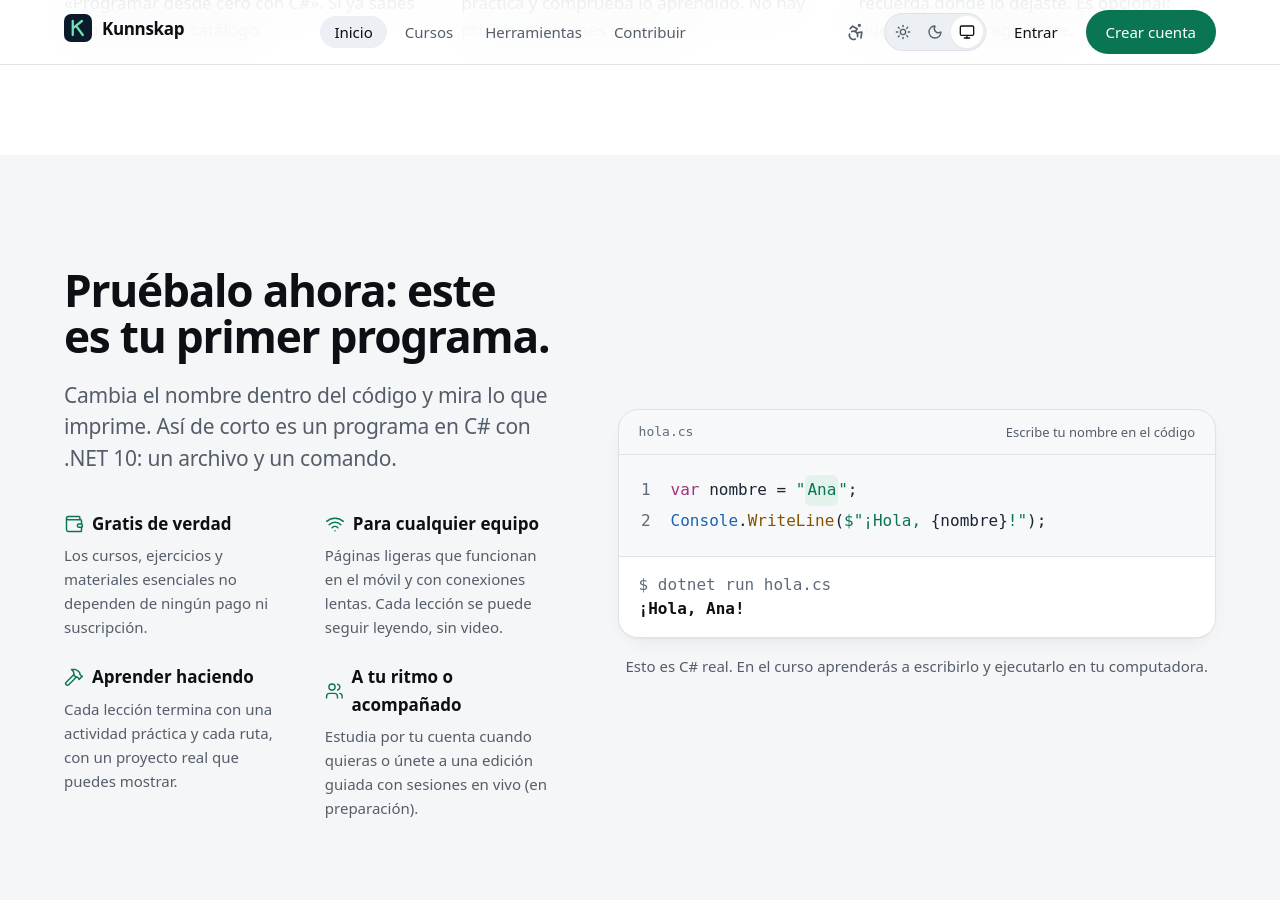
Test: editor de la portada › muestra al instante lo que imprimiría el programa con el nombre escrito
(page scrolled)
Expected: the text "¡Hola, Ana!" is shown, [639,599,745,618]
Step 1. Clear the field labelled "Escribe tu nombre en el código" → (822, 491), box [806,475,838,506]
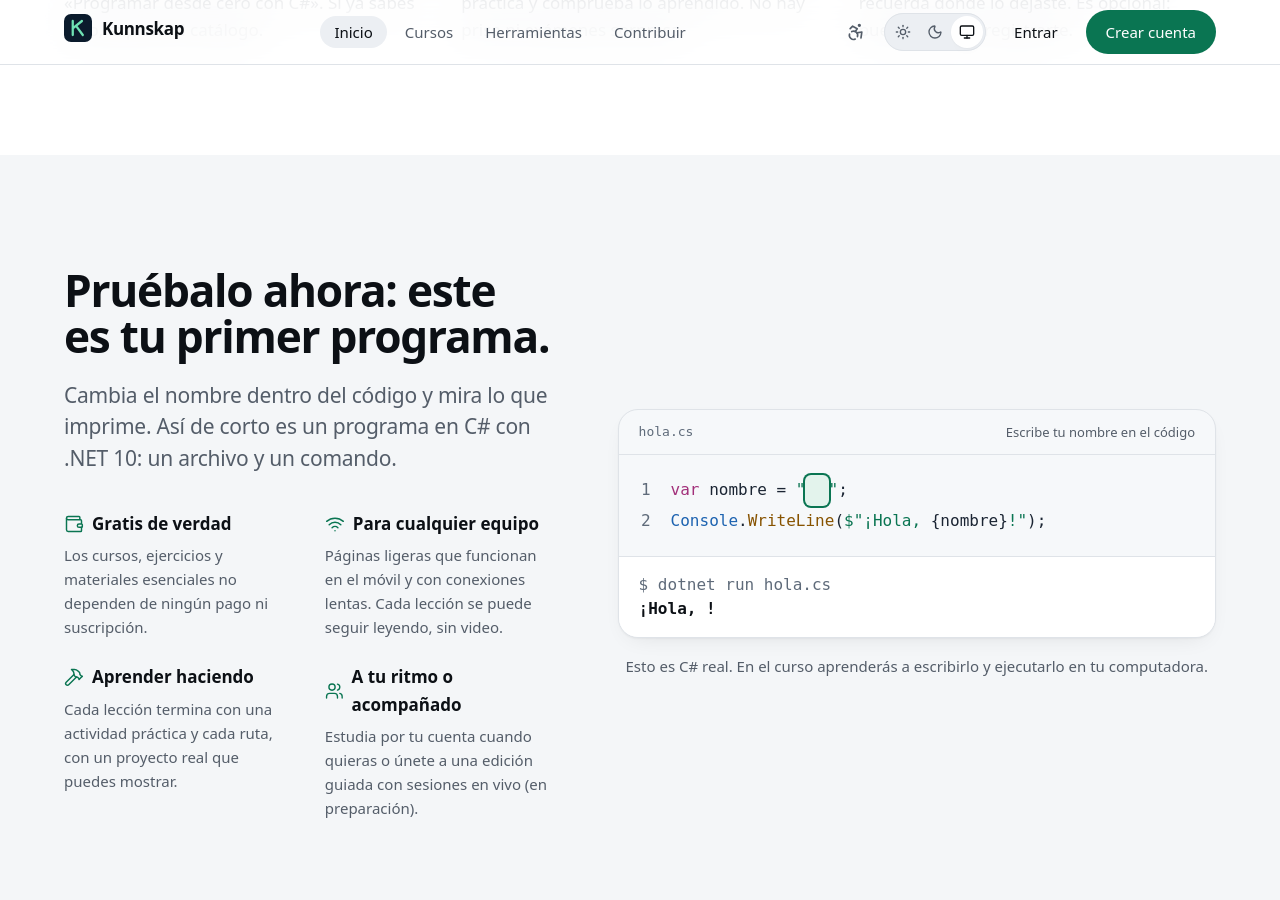
Step 2. Type "Josué" into the field labelled "Escribe tu nombre en el código" → (817, 491), box [806,475,829,506]
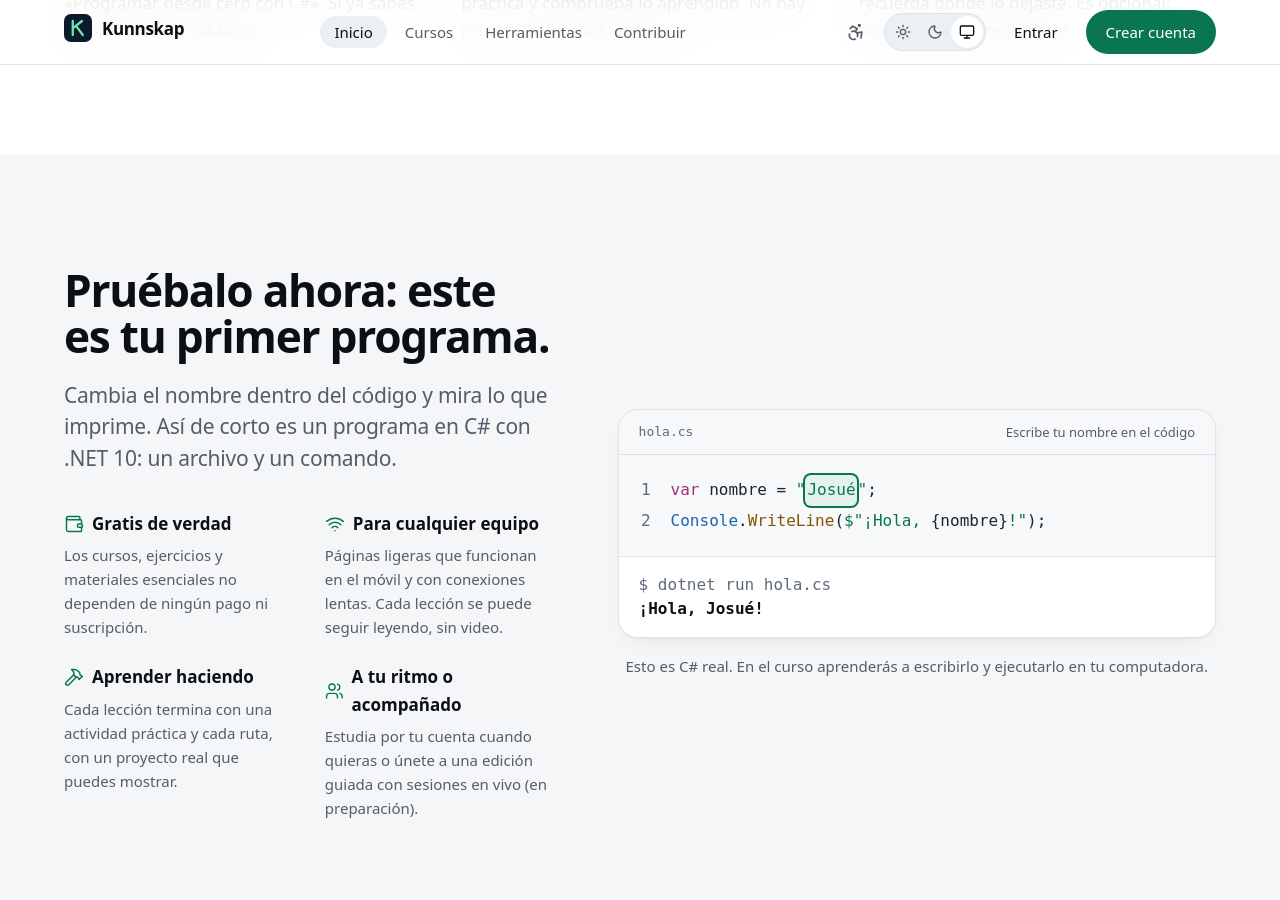
Expected: the text "¡Hola, Josué!" is shown, [639,599,764,618]
